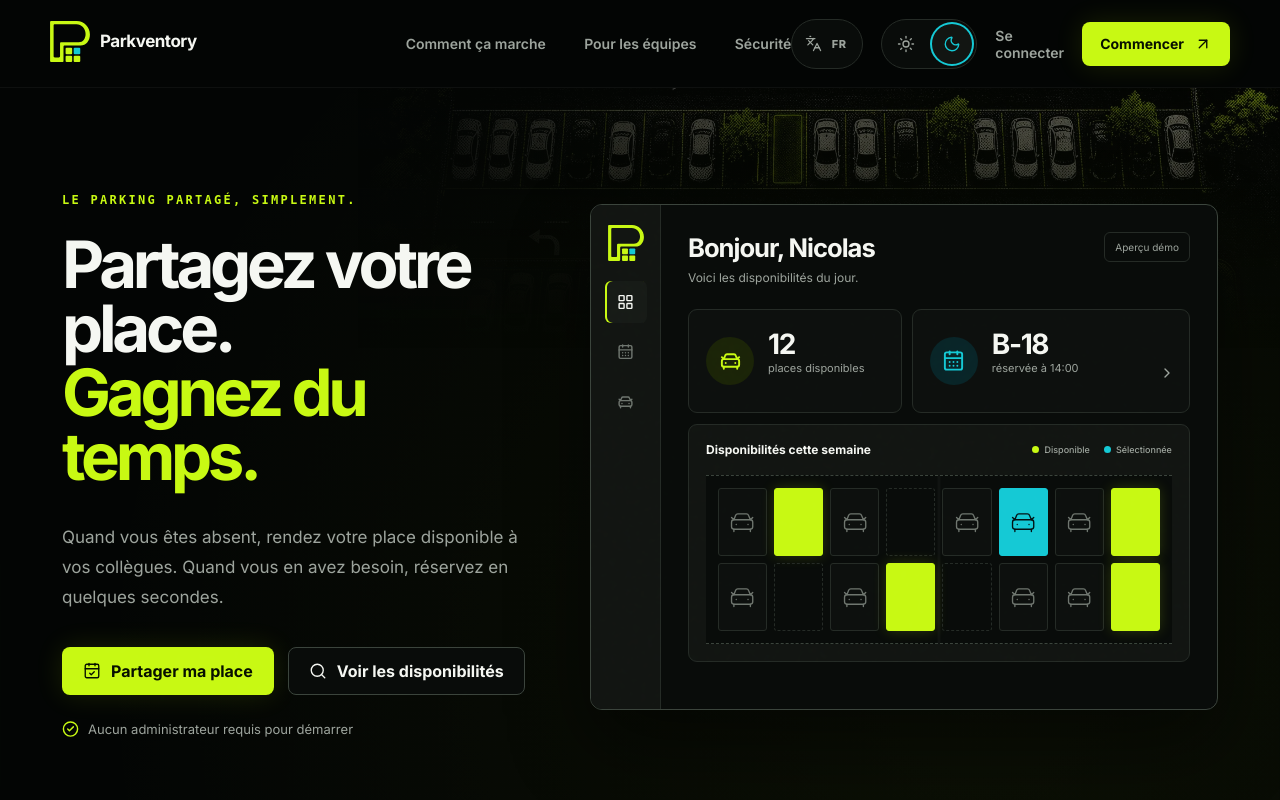
Test: sélecteur de langue public › change la route courante et les CTA vers leur équivalent localisé
Select "Deutsch" in the dropdown named "Choisir la langue": [827, 44] box [791,18,863,68]
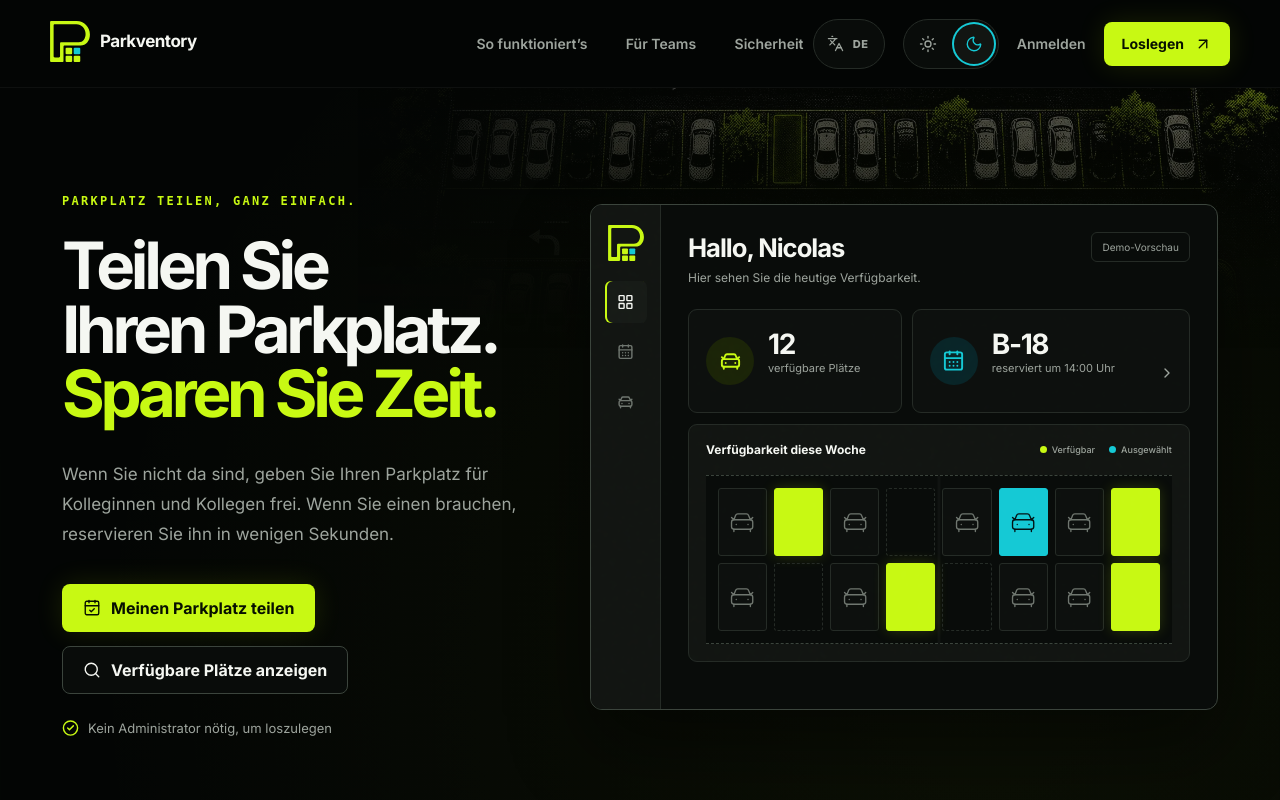
Expected: the heading shows "Teilen Sie Ihren Parkplatz.", [62,226,498,369]
